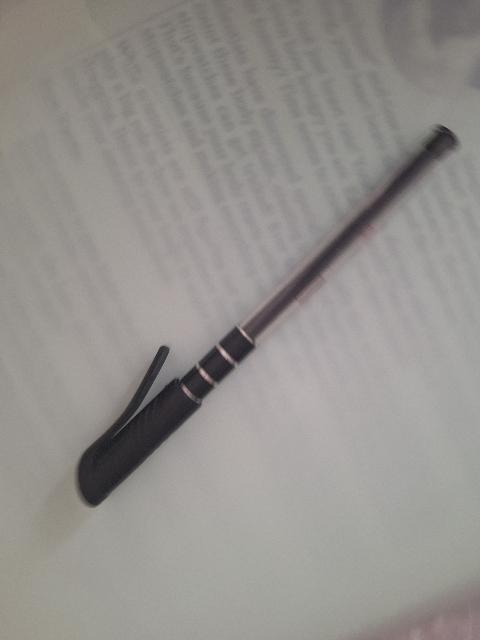writing_tool: (71, 122, 463, 505)
